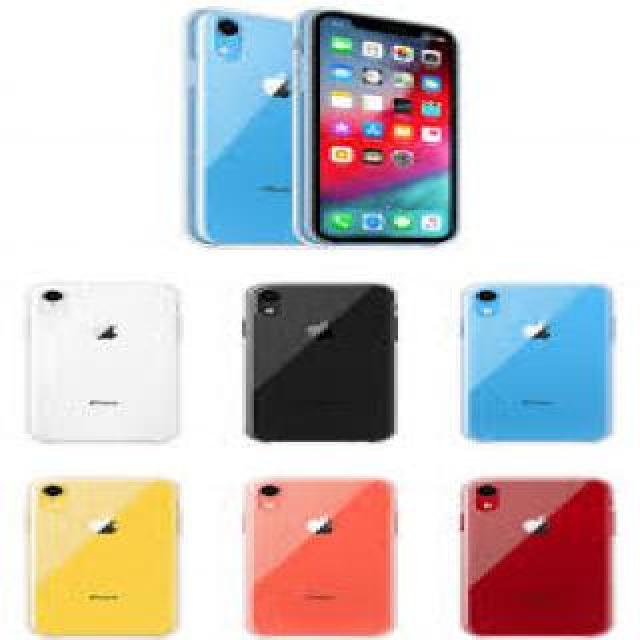smart phone: (283, 10, 472, 246), (427, 461, 628, 635), (178, 6, 310, 269), (216, 280, 430, 440), (439, 285, 636, 454), (14, 475, 211, 640), (17, 267, 179, 464), (231, 470, 389, 640)
